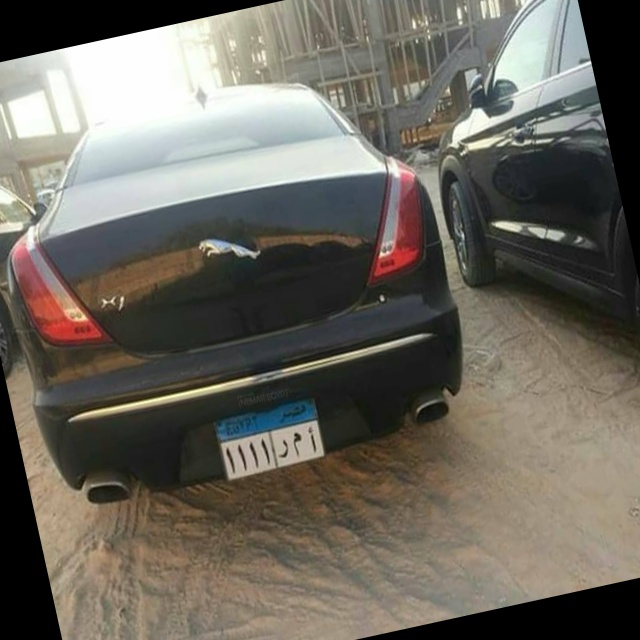License Plate: (210, 395, 330, 484)
